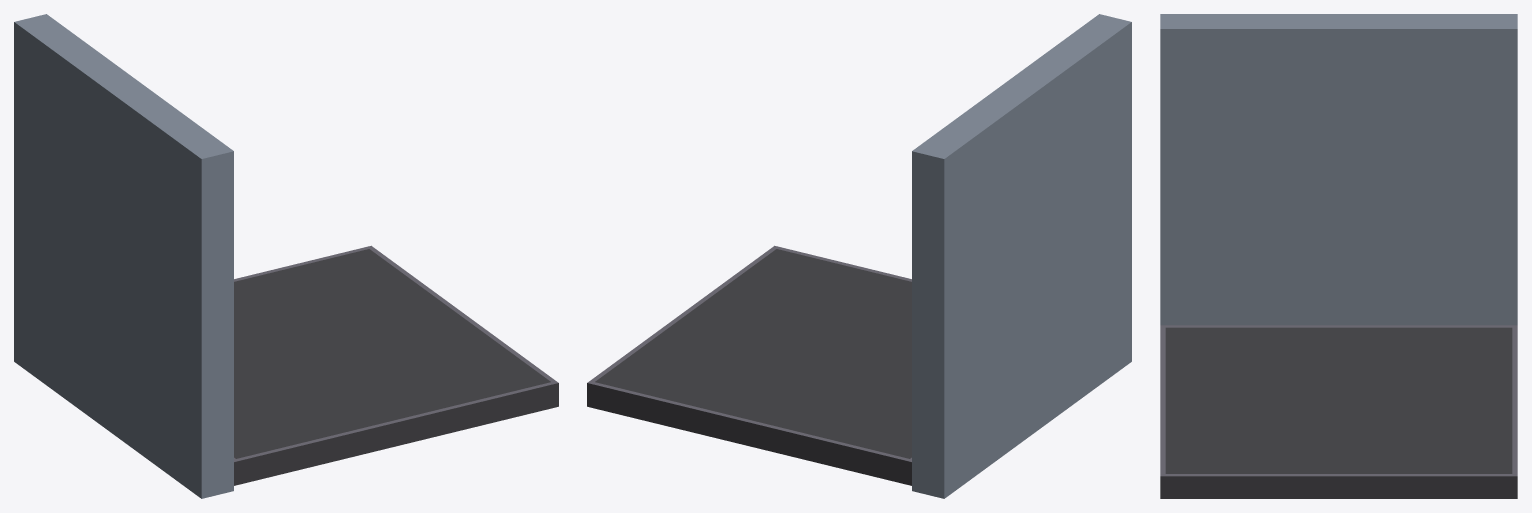
The model's file is walls_floor.glb.
The picture shows the model from 3 angles, left to right: view 1: azimuth 30°, elevation 25°; view 2: azimuth 150°, elevation 25°; view 3: azimuth 270°, elevation 25°; orthographic projection. The views are drawn at different scales.
Visible parts, largest first — view 1: Cube.001, Cube; view 2: Cube.001, Cube; view 3: Cube.001, Cube.
Part boxes in pixels (x1,y1,x2,y2): Cube.001: (14, 14, 233, 498); Cube: (234, 245, 558, 485); Cube.001: (912, 14, 1131, 498); Cube: (587, 245, 911, 485); Cube.001: (1160, 14, 1517, 325); Cube: (1160, 325, 1517, 498).
Size of the model in its own units: 2.2 by 2 by 2.
